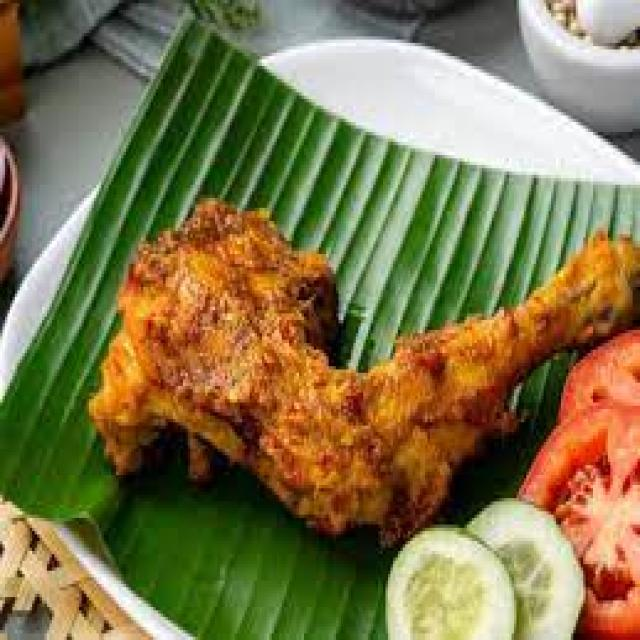ayam bakar: (86, 201, 640, 551)
